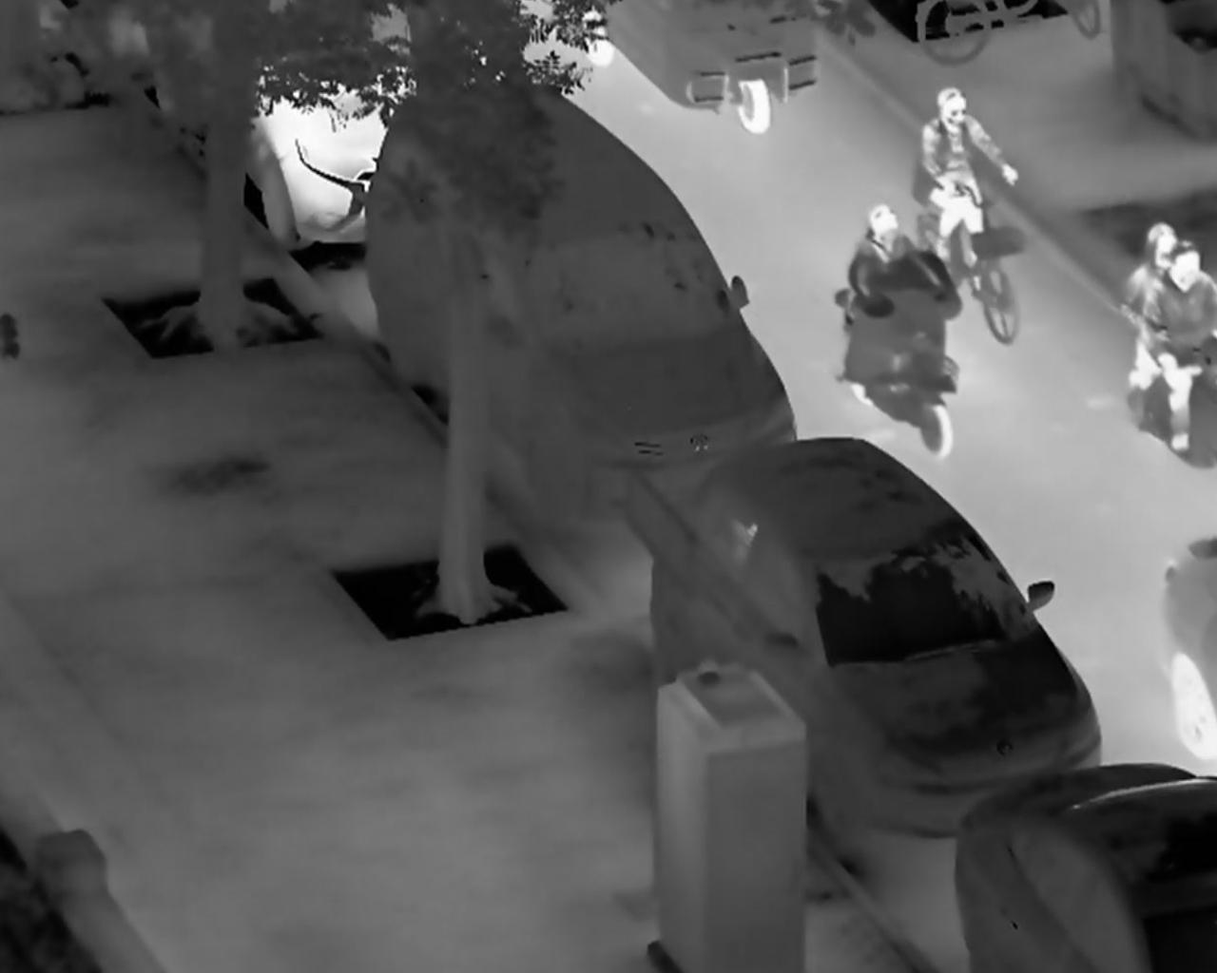person: (917, 86, 1022, 267), (1141, 238, 1217, 457), (844, 199, 958, 343)
